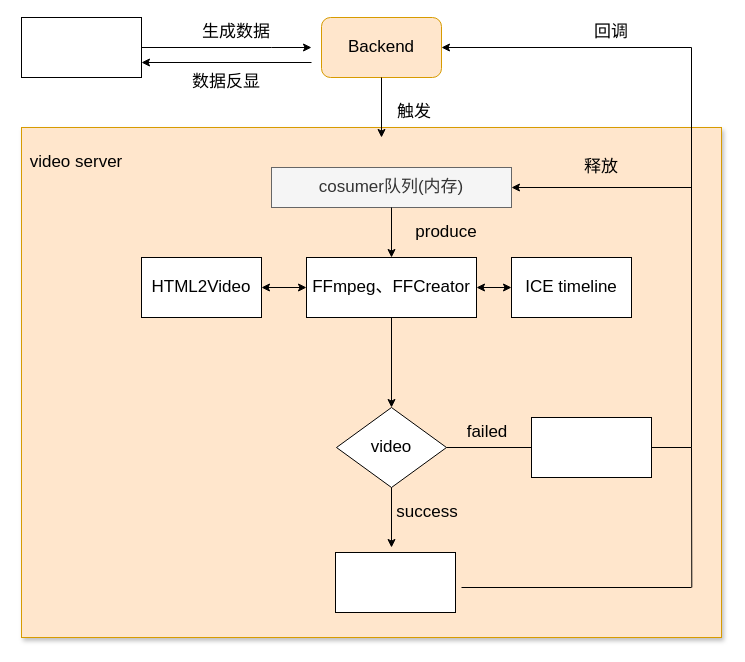
Some shapes in this 745 by 662 pixel diagram are drawn without their labels. Each missing label, with the centre of its shape:
智能生产平台: point (81, 47)
标记失败: point (591, 447)
标记成功: point (395, 582)
